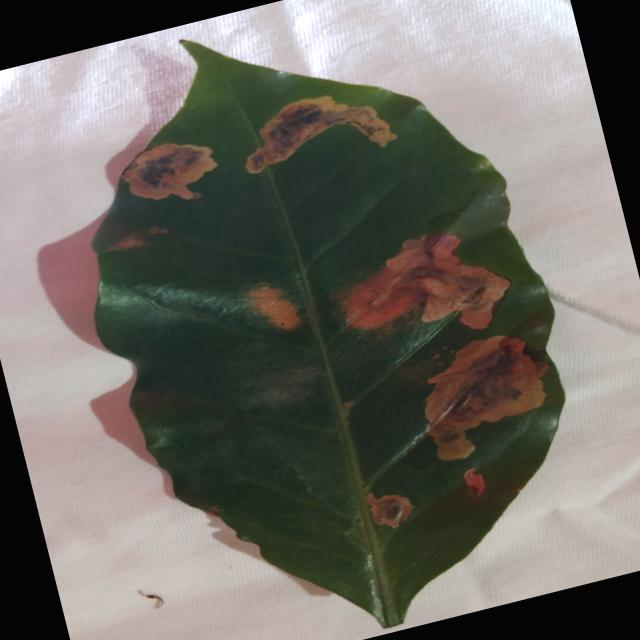KaratDaunKopi: (347, 233, 509, 328), (426, 336, 549, 461), (245, 96, 396, 173), (122, 143, 216, 199), (247, 285, 299, 329), (365, 493, 412, 528), (463, 467, 485, 496), (107, 234, 146, 250), (149, 226, 167, 233)
